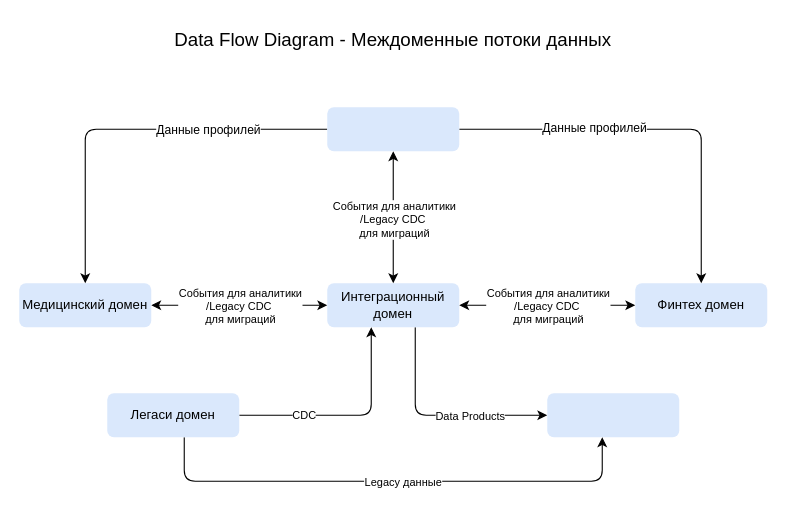
This 785x509 diagram has some shape labels left out. The shapes that lost their labels are listed below. From the top down, each one's centre as x and y in pixels, then its label:
At pixel 393 129: "Пользовательский домен".
At pixel 613 415: "Аналитический домен".
